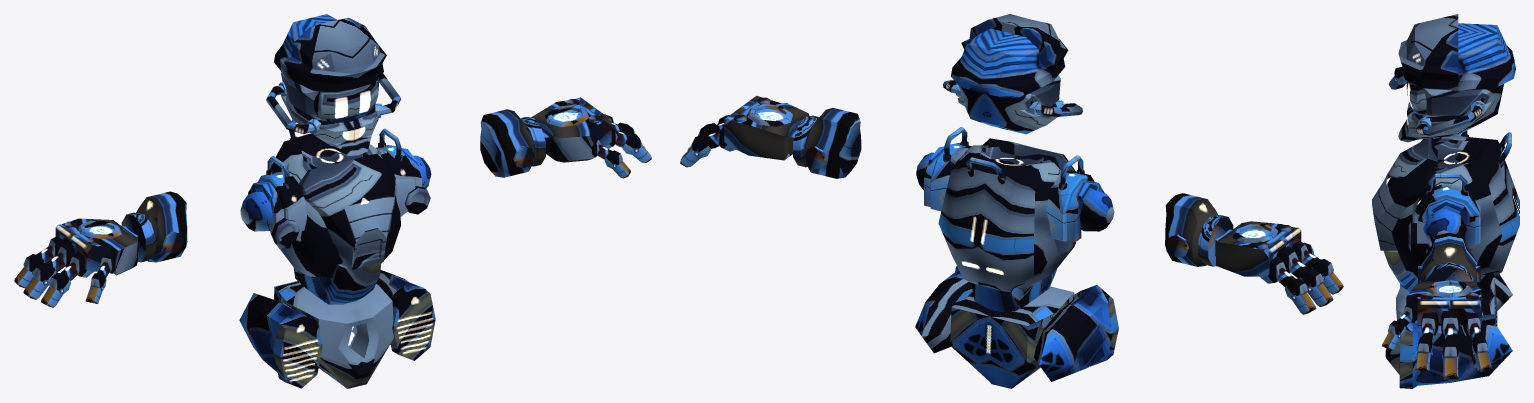
File: Robot-Completo-06.fbx
3 renders of one model, left to right at view 1: azimuth 30°, elevation 25°; view 2: azimuth 150°, elevation 25°; view 3: azimuth 270°, elevation 25°, orthographic. The views are drawn at different scales.
Visible parts, largest first — view 1: Cinturon_Robot06, Cabeza, polySurface75, polySurface76, Palma_Derecha, Mano_Derecha, Brazo_Izquierdo, Palma_Izquierda1, polySurface77, polySurface73, VISOR, polySurface78 (+3 smaller); view 2: Cinturon_Robot06, polySurface76, Cabeza, Palma_Derecha, Mano_Derecha, Brazo_Izquierdo, Palma_Izquierda1, polySurface73, polySurface78, polySurface77, Hombro_Izquierdo1, polySurface75 (+1 smaller); view 3: Cabeza, polySurface76, Cinturon_Robot06, polySurface75, polySurface78, Palma_Derecha, Mano_Derecha, Hombro_Derecho, polySurface77, Mangeras, VISOR, polySurface79 (+18 smaller).
Part boxes in pixels (x1,y1,x2,y2): Cinturon_Robot06: (239, 270, 435, 388); Cabeza: (274, 14, 386, 155); polySurface75: (299, 153, 395, 269); polySurface76: (270, 133, 400, 278); Palma_Derecha: (531, 97, 611, 162); Mano_Derecha: (480, 109, 545, 177); Brazo_Izquierdo: (121, 191, 187, 262); Palma_Izquierda1: (55, 218, 138, 275); polySurface77: (293, 263, 381, 304); polySurface73: (248, 171, 307, 241); VISOR: (313, 82, 377, 122); polySurface78: (376, 145, 421, 216); Cinturon_Robot06: (915, 266, 1118, 388); polySurface76: (938, 145, 1075, 292); Cabeza: (951, 14, 1068, 134); Palma_Derecha: (724, 95, 809, 160); Mano_Derecha: (793, 108, 861, 178); Brazo_Izquierdo: (1165, 193, 1233, 266); Palma_Izquierda1: (1215, 221, 1301, 276); polySurface73: (1046, 170, 1104, 242); polySurface78: (924, 143, 971, 211); polySurface77: (971, 269, 1056, 311); Hombro_Izquierdo1: (1080, 190, 1114, 231); polySurface75: (983, 138, 1075, 171); Cabeza: (1398, 14, 1515, 142); polySurface76: (1391, 135, 1519, 280); Cinturon_Robot06: (1385, 274, 1512, 388); polySurface75: (1372, 138, 1437, 250); polySurface78: (1412, 183, 1480, 248); Palma_Derecha: (1406, 280, 1481, 325); Mano_Derecha: (1421, 232, 1476, 283); Hombro_Derecho: (1423, 209, 1466, 245); polySurface77: (1383, 250, 1492, 298); Mangeras: (1416, 100, 1484, 135); VISOR: (1406, 81, 1426, 115); polySurface79: (1426, 173, 1468, 196).
Size of the model in its own units: 731 by 391 by 150.
